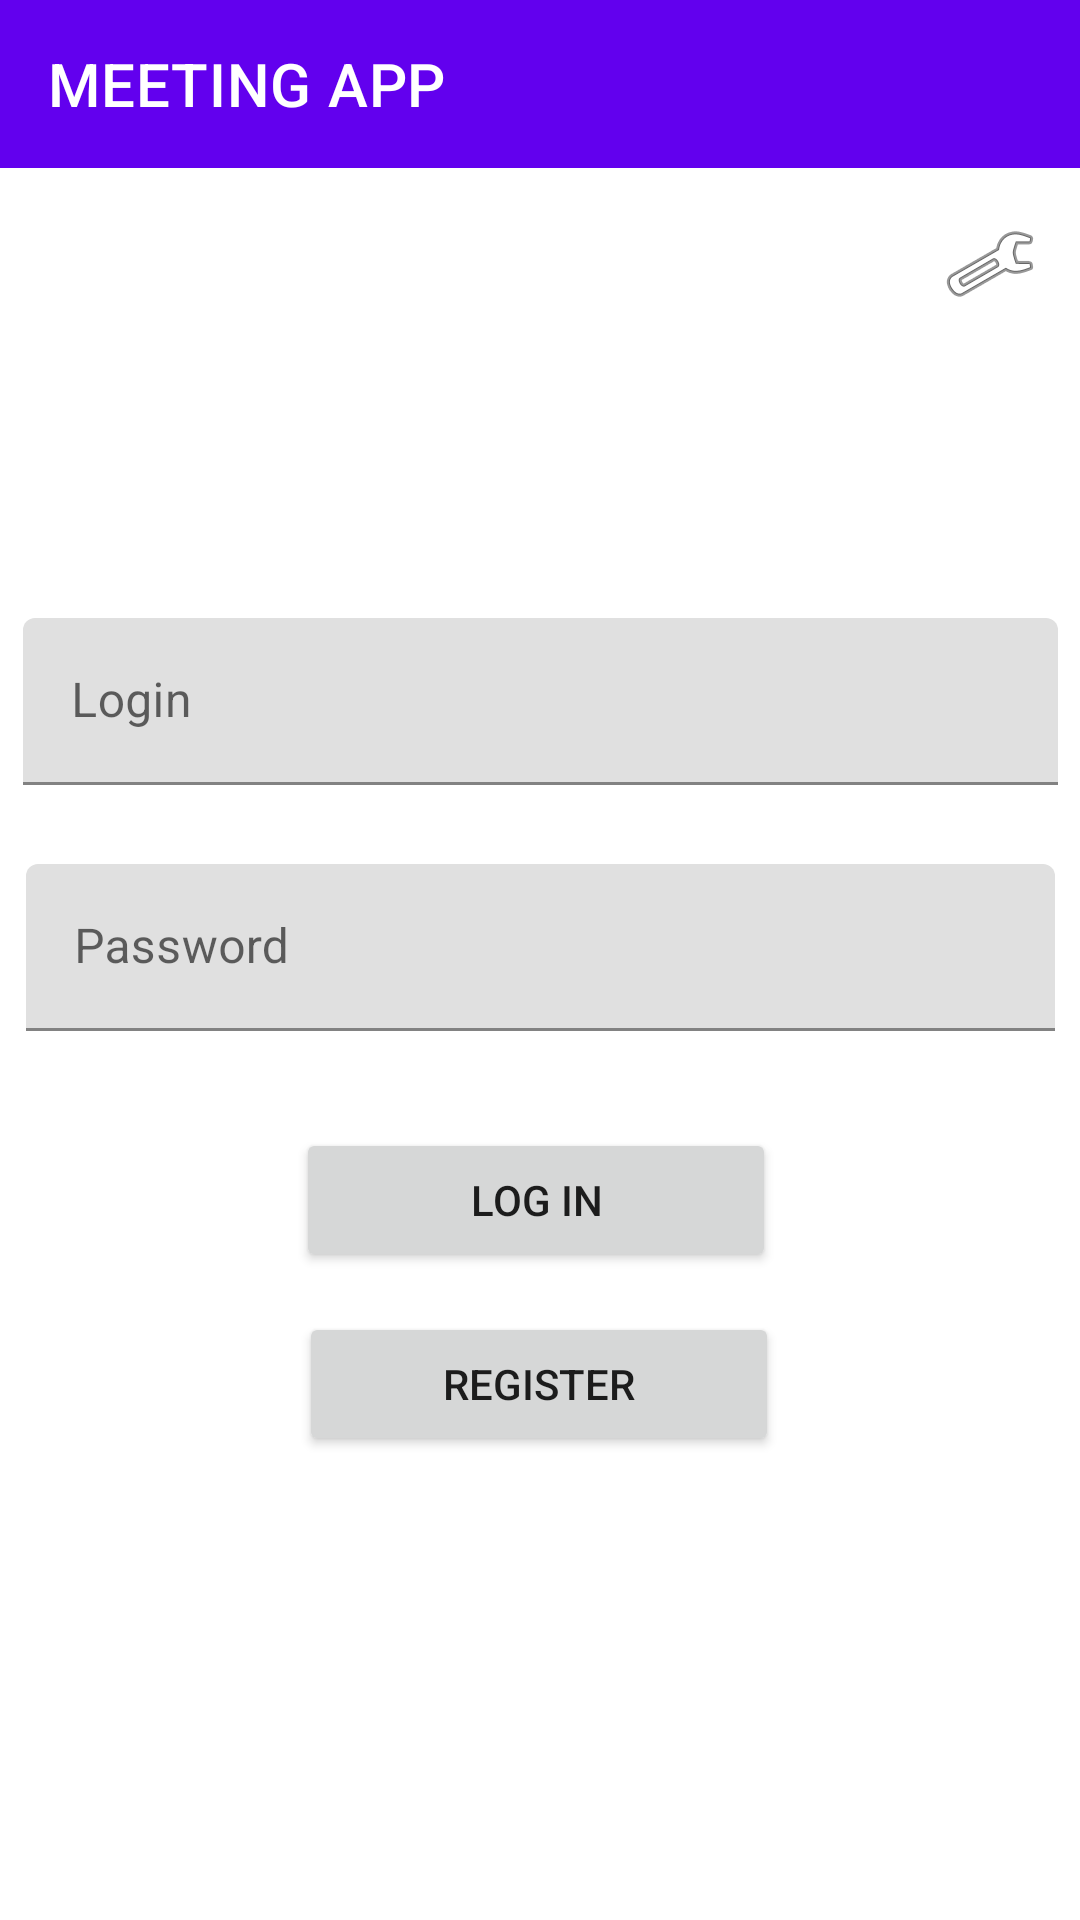

Named icons in this screenshot (1080x1920) and their bounding boxes, (x1, y1, x2, y2):
manage: (947, 231, 1033, 297)
